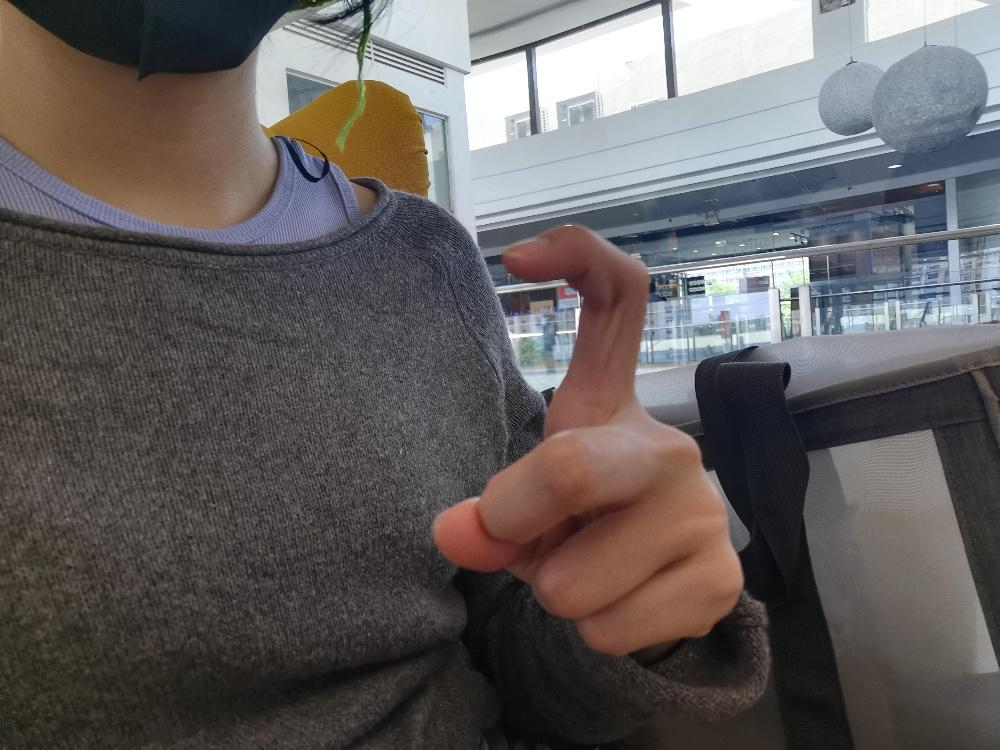x: (428, 219, 745, 657)
